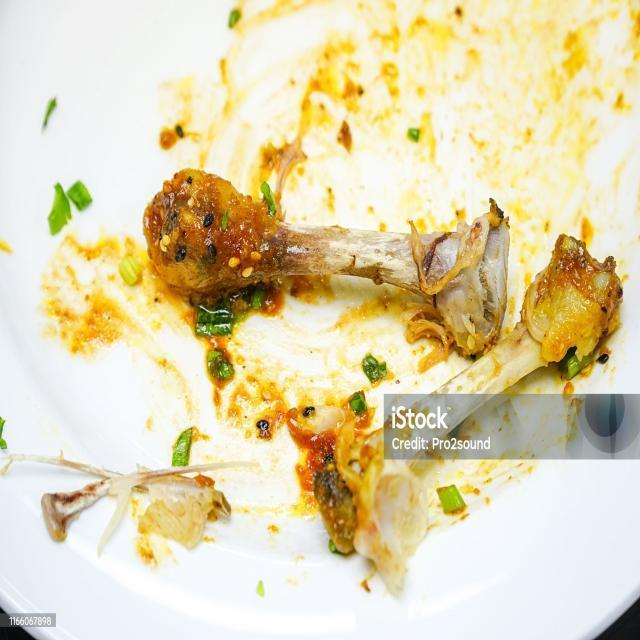Wet Waste: (324, 262, 620, 544), (156, 172, 512, 336)
